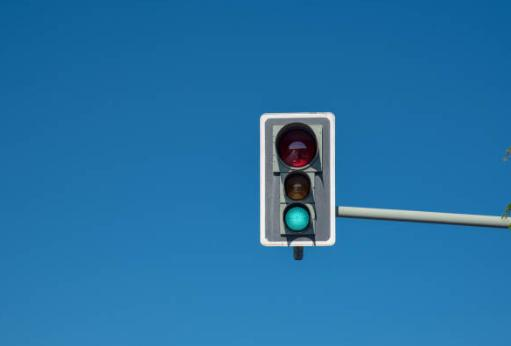green_light: (260, 112, 336, 246)
